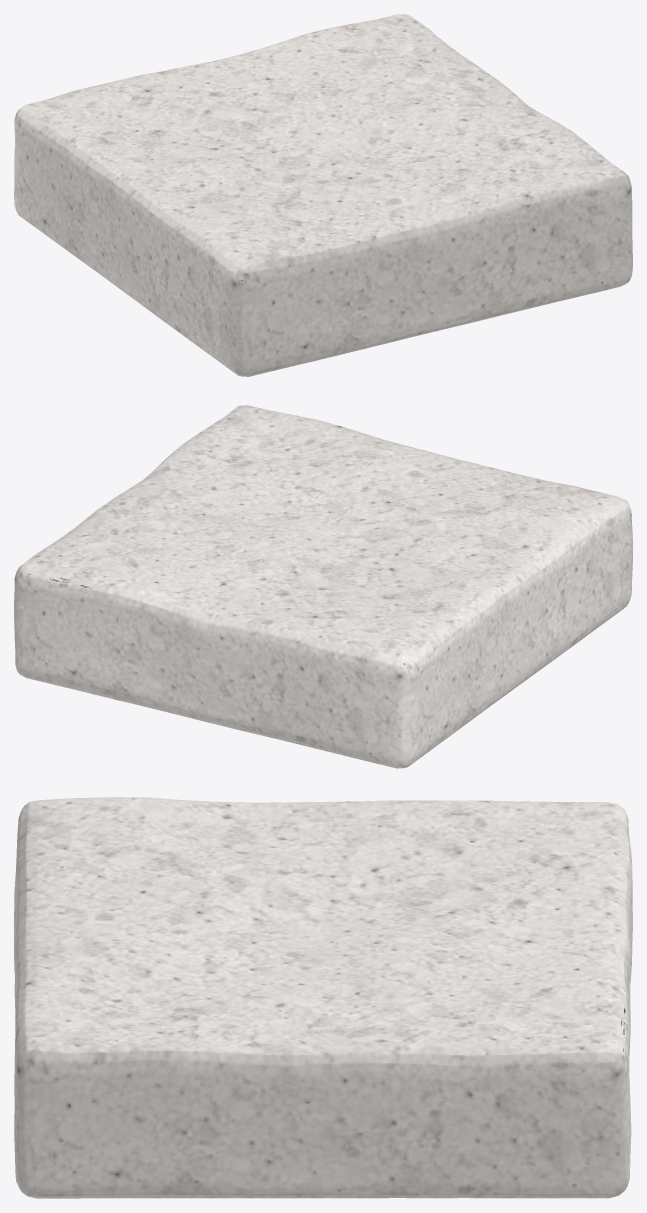
Rendered from tak-flat-white.glb.
3 renders of one model, top to bottom at view 1: azimuth 30°, elevation 25°; view 2: azimuth 150°, elevation 25°; view 3: azimuth 270°, elevation 25°, orthographic. The views are drawn at different scales.
Parts seen in each view (by area): view 1: tak-flat-white; view 2: tak-flat-white; view 3: tak-flat-white.
Part boxes in pixels (left/top/right/bottom): tak-flat-white: left=14, top=14, right=632, bottom=376; tak-flat-white: left=14, top=405, right=632, bottom=768; tak-flat-white: left=14, top=797, right=632, bottom=1198.
Size of the model in its own units: 0.0283 by 0.0079 by 0.0283.
Materials: 1 (1 with a texture image).
